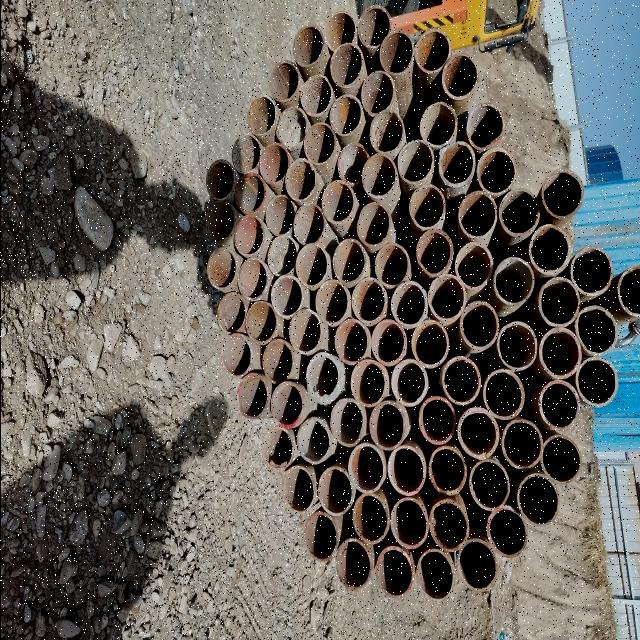pipe: (497, 183, 541, 240), (492, 250, 536, 306), (428, 496, 470, 552), (538, 376, 582, 429), (386, 442, 428, 497), (538, 325, 582, 377), (540, 165, 582, 219), (530, 222, 572, 276), (388, 494, 430, 548), (414, 547, 456, 600), (488, 506, 528, 561), (538, 276, 580, 328), (542, 434, 584, 486), (346, 442, 386, 496), (352, 492, 392, 546), (332, 538, 373, 590), (326, 396, 367, 448), (306, 348, 344, 404), (368, 397, 407, 451), (466, 98, 506, 150), (390, 278, 430, 330), (576, 358, 618, 406), (440, 50, 480, 100), (428, 445, 468, 495), (498, 321, 540, 368), (483, 371, 525, 418), (373, 239, 412, 289), (408, 181, 448, 229), (390, 358, 430, 406), (350, 277, 390, 325), (519, 475, 557, 525), (420, 394, 458, 444), (349, 357, 387, 407), (332, 316, 370, 366), (284, 304, 322, 354), (301, 511, 339, 561), (458, 190, 498, 237), (410, 318, 449, 366), (374, 548, 412, 597), (331, 236, 368, 286), (368, 318, 408, 364), (299, 120, 339, 166), (577, 306, 615, 354), (428, 276, 466, 324), (268, 380, 306, 428), (478, 146, 516, 193), (574, 246, 612, 292), (328, 40, 366, 86), (280, 156, 318, 202), (504, 419, 540, 467), (459, 541, 495, 589), (416, 228, 452, 276), (354, 200, 390, 248), (299, 69, 335, 117), (272, 100, 308, 148), (378, 31, 414, 79), (258, 336, 294, 384), (361, 152, 395, 202), (318, 464, 352, 514), (236, 370, 270, 420), (288, 21, 324, 68), (460, 409, 496, 455), (320, 178, 356, 224), (294, 241, 330, 287), (314, 278, 350, 324), (280, 465, 316, 511), (262, 191, 298, 237), (244, 297, 280, 343), (296, 414, 330, 462), (266, 56, 300, 104), (204, 242, 238, 290), (236, 255, 270, 303), (472, 461, 508, 506), (230, 170, 266, 214), (270, 272, 304, 318), (444, 358, 479, 402), (202, 156, 237, 200), (214, 287, 246, 335), (419, 104, 455, 146), (242, 94, 278, 136), (463, 299, 493, 349), (414, 28, 448, 72), (330, 93, 364, 137), (232, 212, 266, 256), (336, 138, 368, 184), (258, 138, 290, 184), (266, 232, 298, 278), (357, 3, 389, 48), (264, 424, 294, 472), (368, 110, 402, 152), (292, 202, 326, 244), (219, 334, 253, 376), (400, 140, 433, 182), (228, 133, 262, 173), (326, 8, 358, 48), (204, 200, 234, 242), (458, 248, 492, 284), (362, 70, 391, 112), (620, 263, 640, 315)
